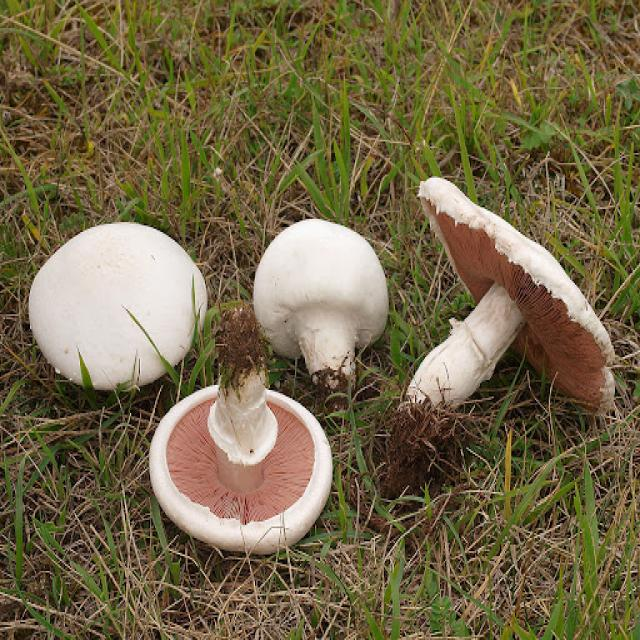field-mushroom: (405, 179, 614, 410), (149, 308, 332, 554), (28, 222, 210, 393), (252, 219, 391, 378)
